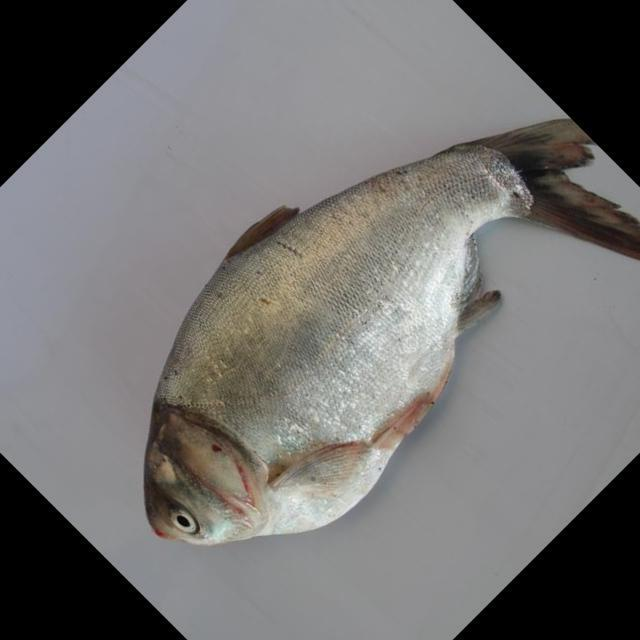SilverCarp: (151, 97, 602, 554)
